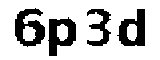3: (84, 4, 114, 51)
6: (11, 5, 46, 50)
d: (117, 6, 152, 51)
p: (47, 16, 83, 60)
